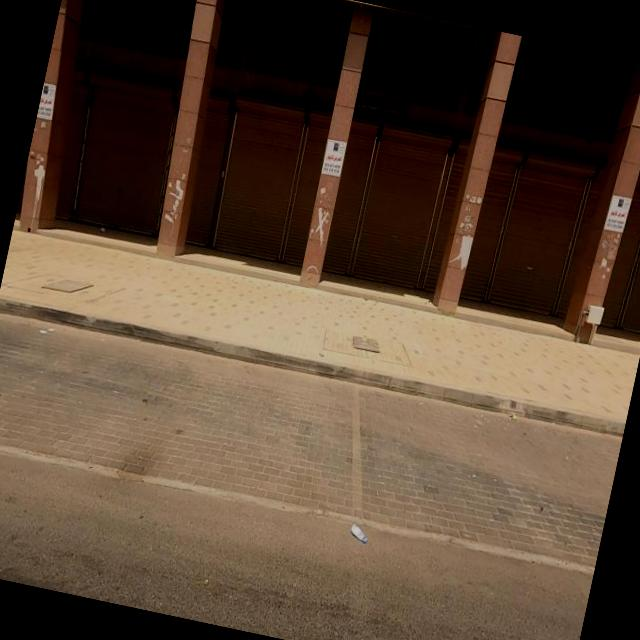debris: (104, 82, 238, 304), (258, 123, 382, 312)
